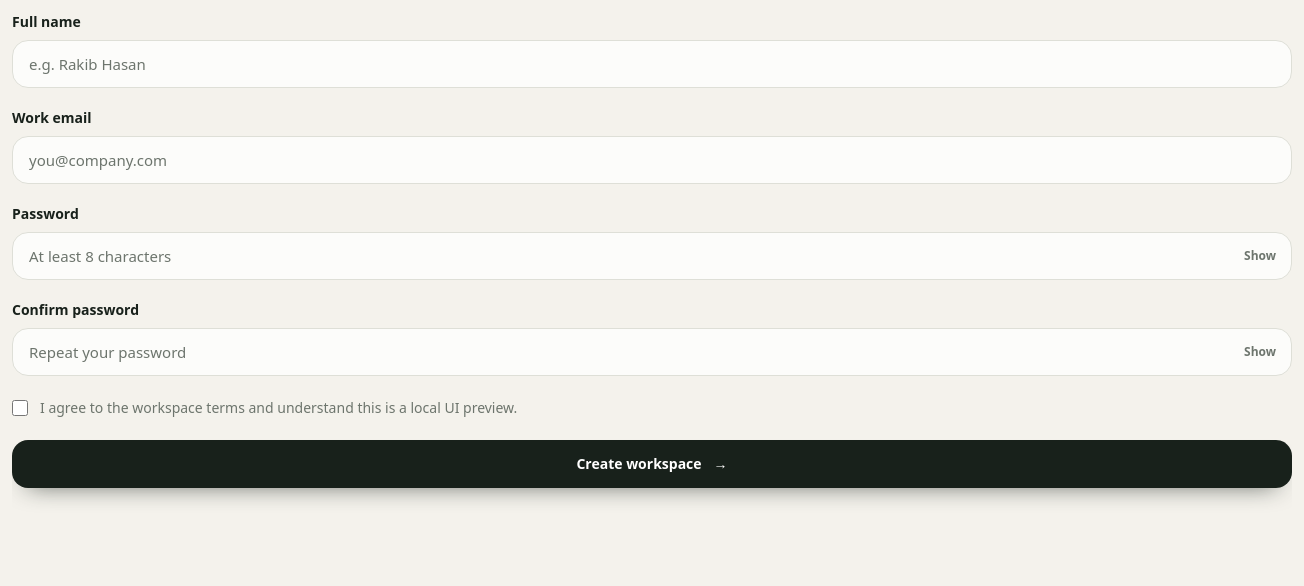
Test: AuthForm › submits signup data to the backend and shows success
Type "Rakib Hasan" into the field labelled "Full name" at (652, 64), box [12,40,1292,88]
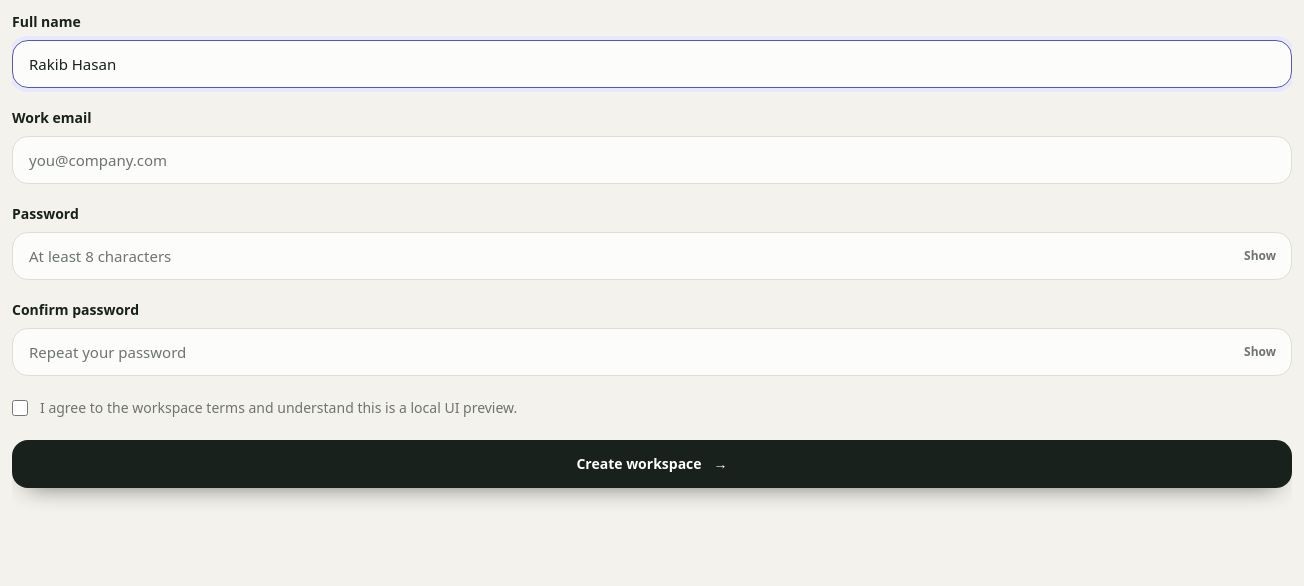
Type "rakib@example.com" into the field labelled "Work email" at (652, 160), box [12,136,1292,184]
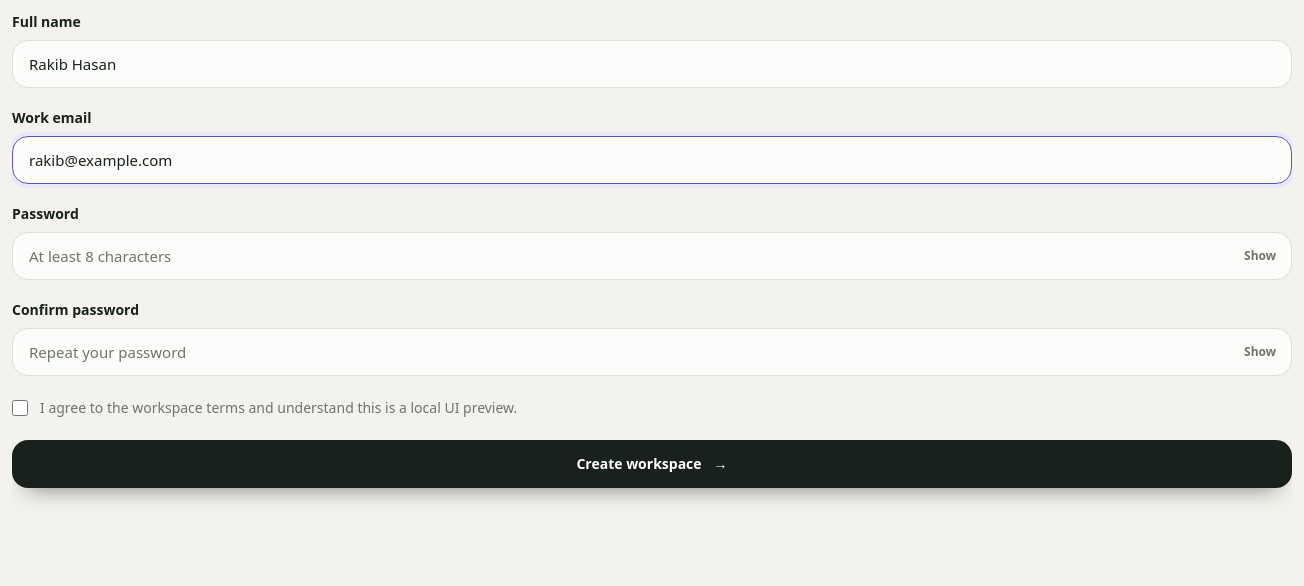
Type "A secure password" into the password field labelled "Password" at (652, 256), box [12,232,1292,280]
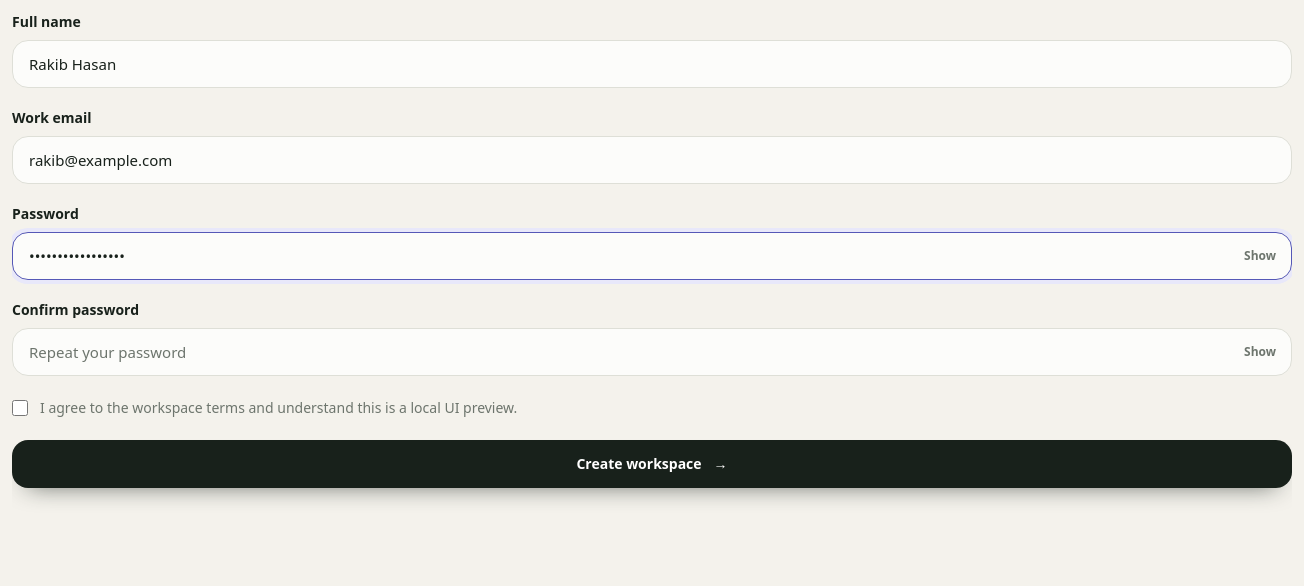
Type "A secure password" into the password field labelled "Confirm password" at (652, 352), box [12,328,1292,376]
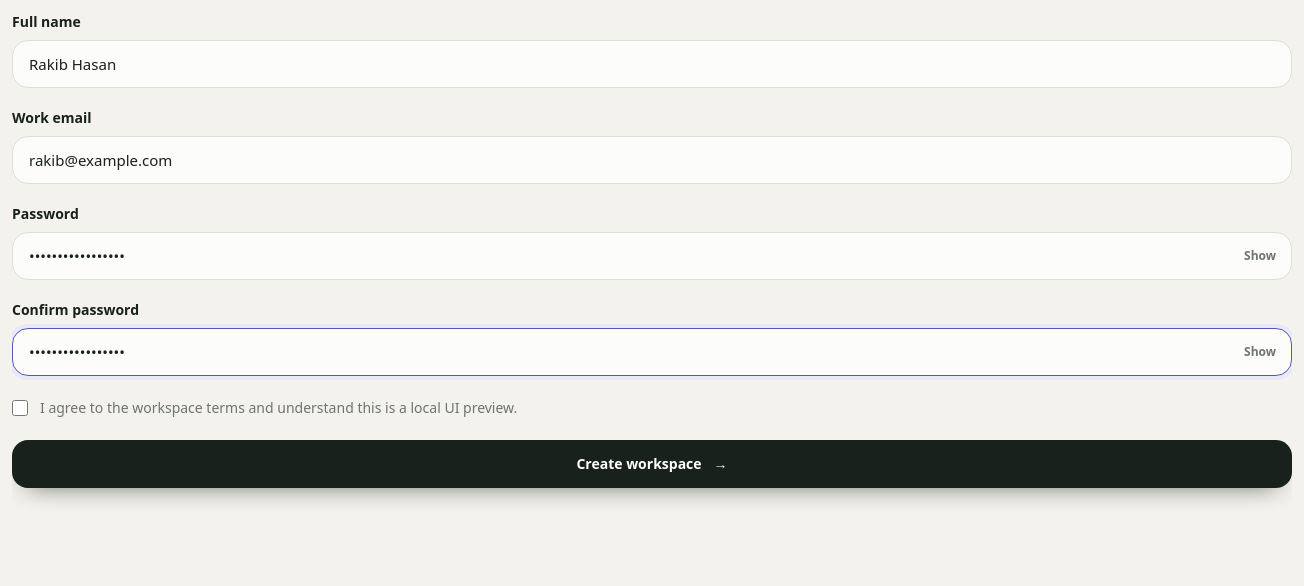
Click the checkbox labelled "workspace terms" at (20, 408), box [12,400,28,416]
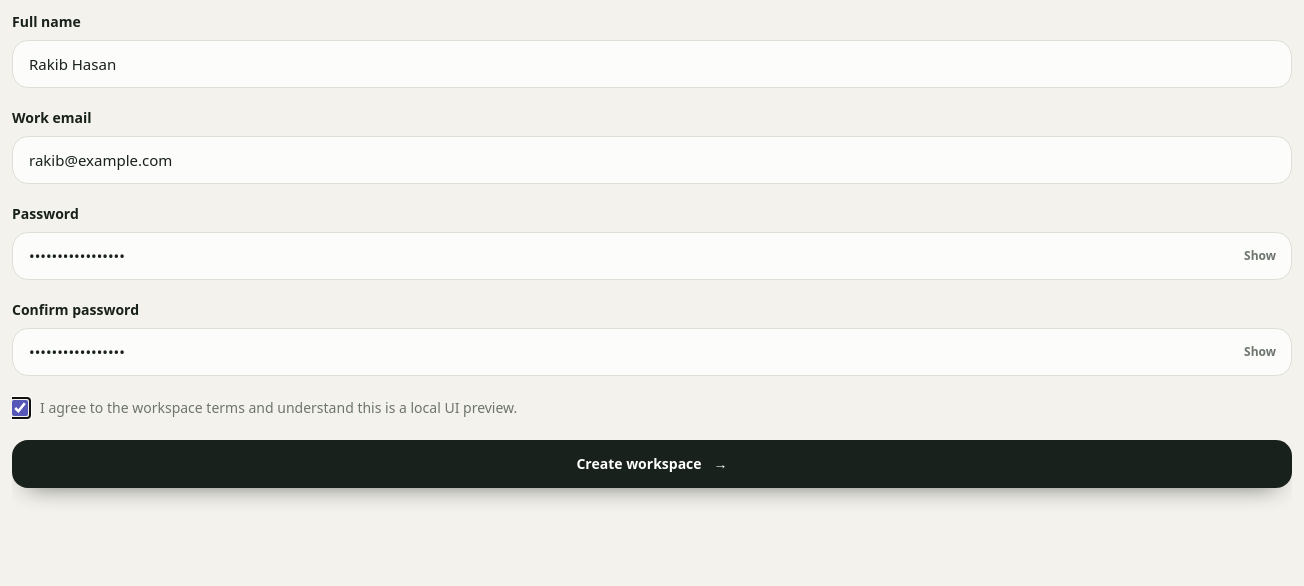
Click the button "Create workspace →" at (652, 464), box [12,440,1292,488]
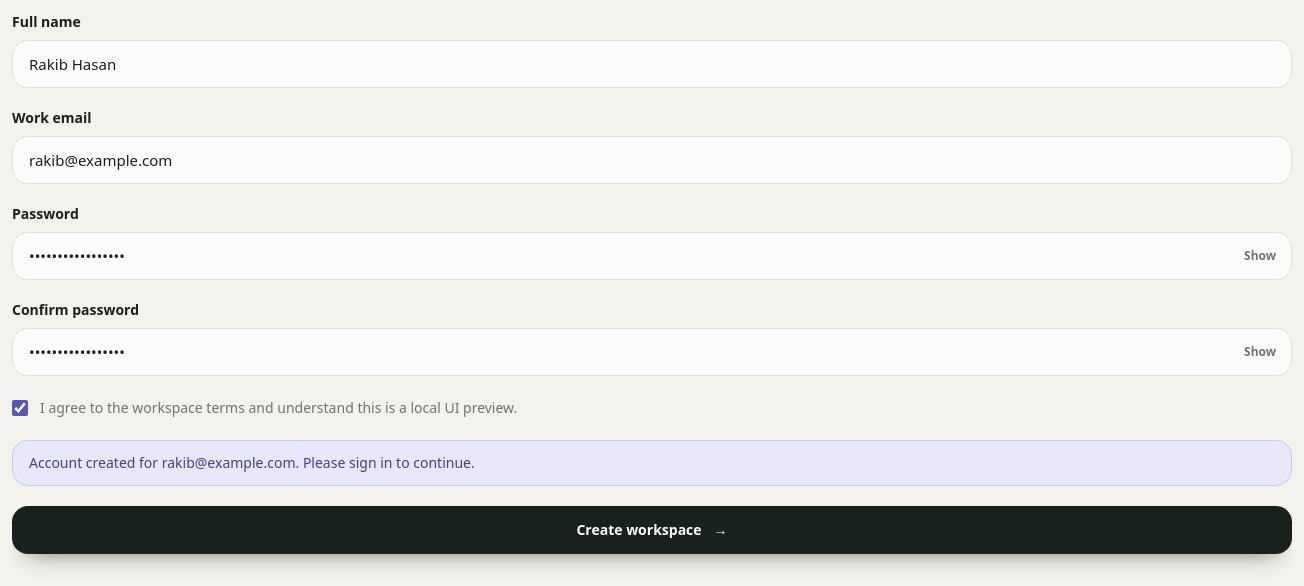
Result: the message shows "Account created" at [29,453,475,472]
